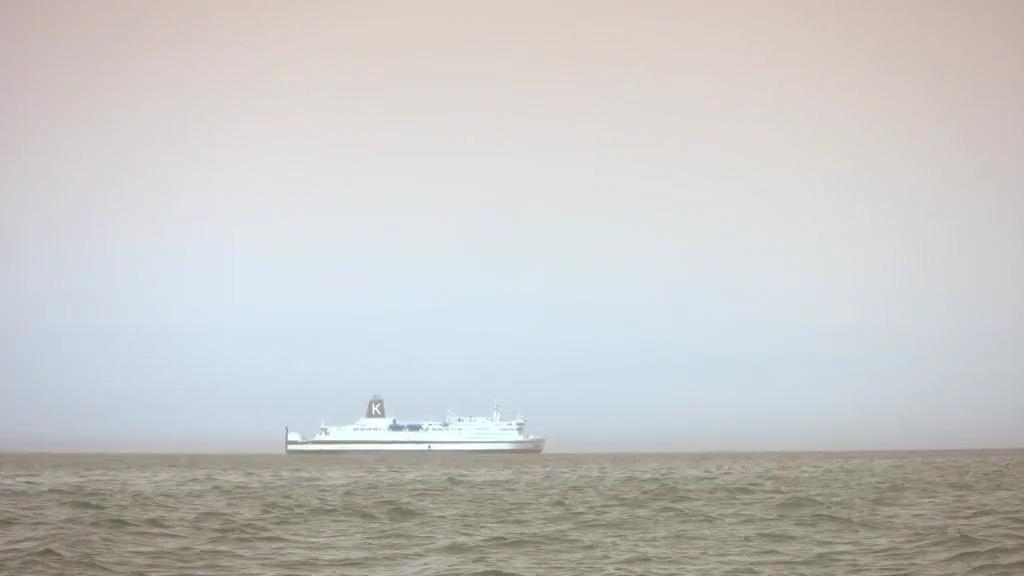PassengerShip: (280, 391, 556, 459)
